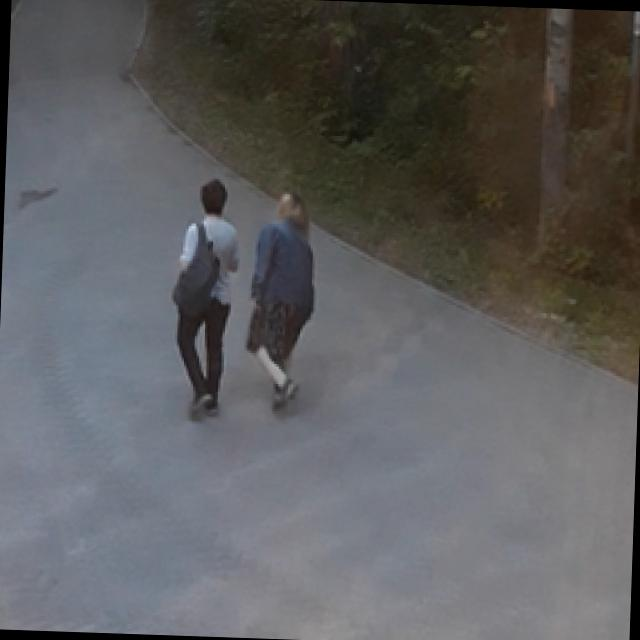person: (169, 174, 242, 420), (242, 187, 317, 412)
